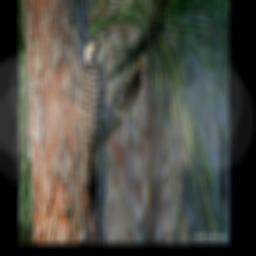Woodpecker: (67, 33, 111, 223)
